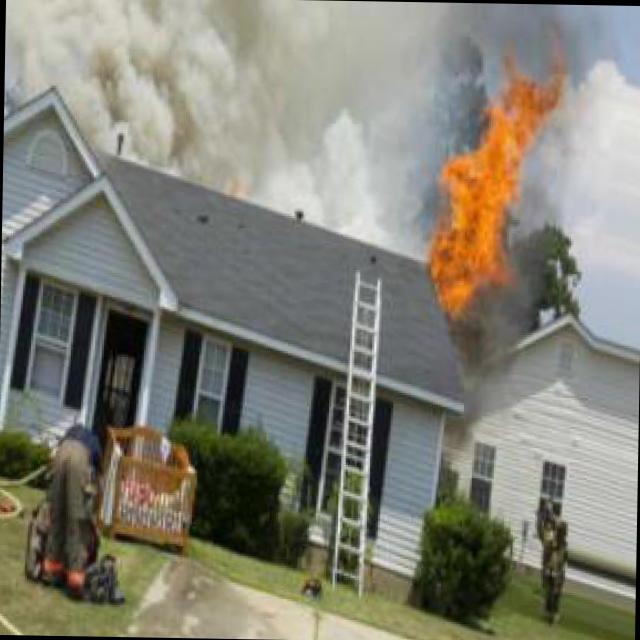fire: (428, 70, 554, 308)
smoke: (3, 0, 418, 148)
